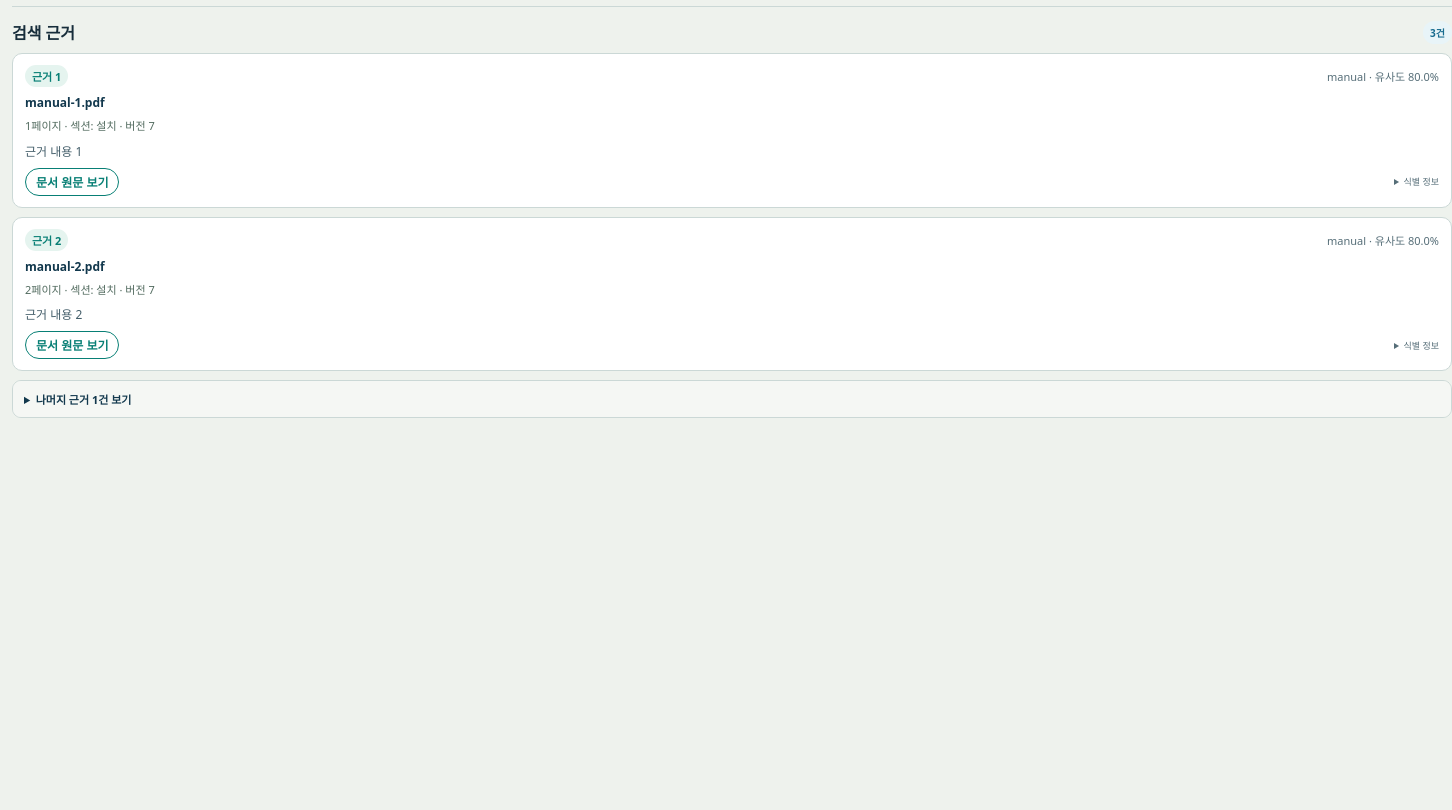
ChatSources › 처음 두 근거를 표시하고 나머지는 접이식 목록으로 제공한다
Check: the text "manual-1.pdf" is shown, box [25,94,105,111]
Check: the text "manual-2.pdf" is shown, box [25,258,105,275]
Click the heading "나머지 근거 1건 보기". click: (64, 400)
box: [13,381,1451,417]
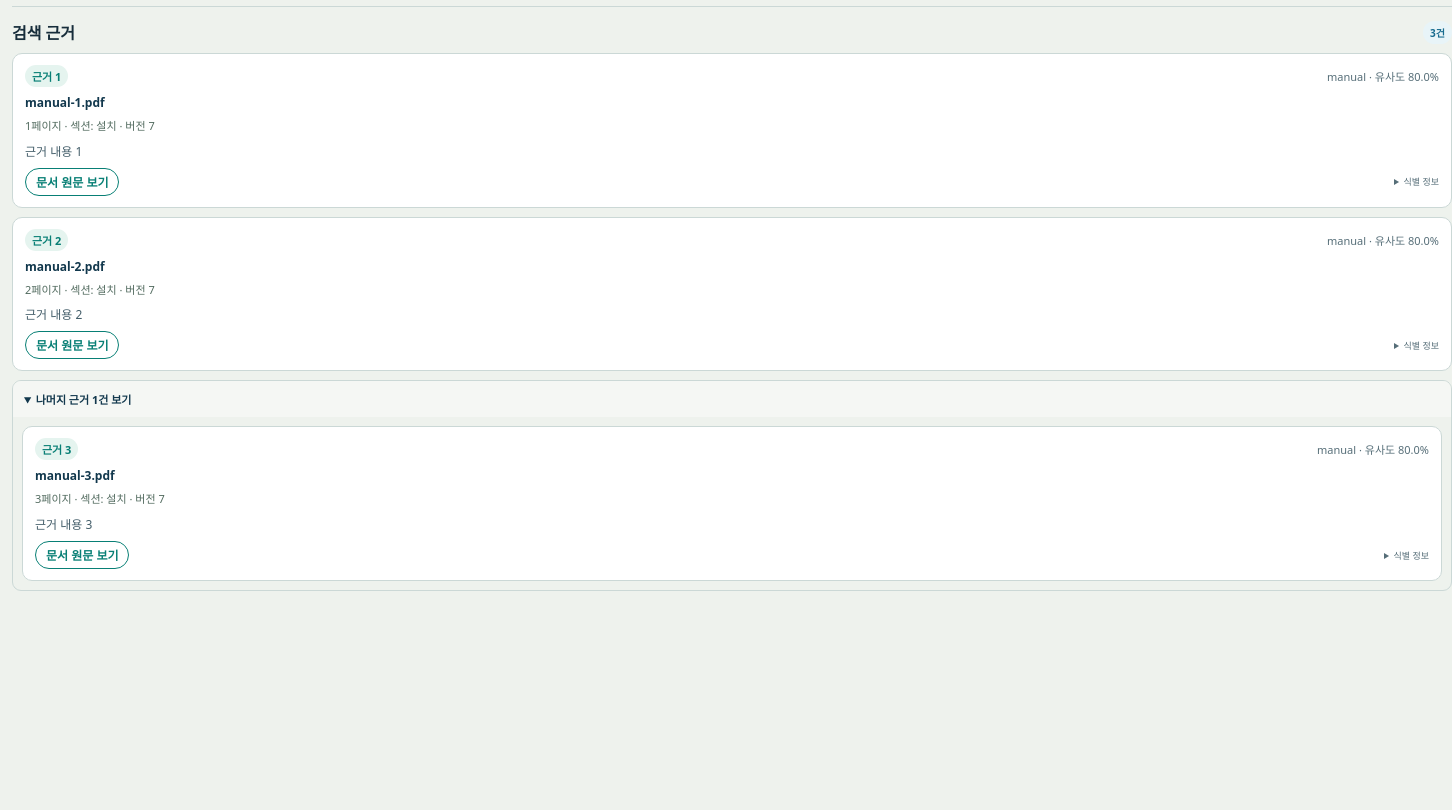
Check: the text "manual-3.pdf" is shown, box [35,467,115,484]
